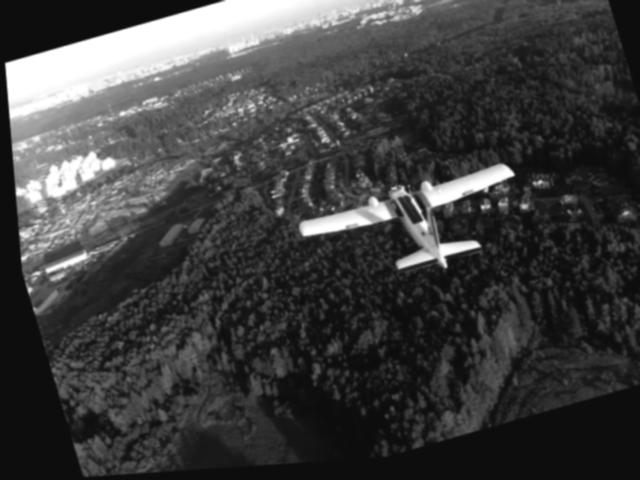hedef: (278, 152, 542, 316)
